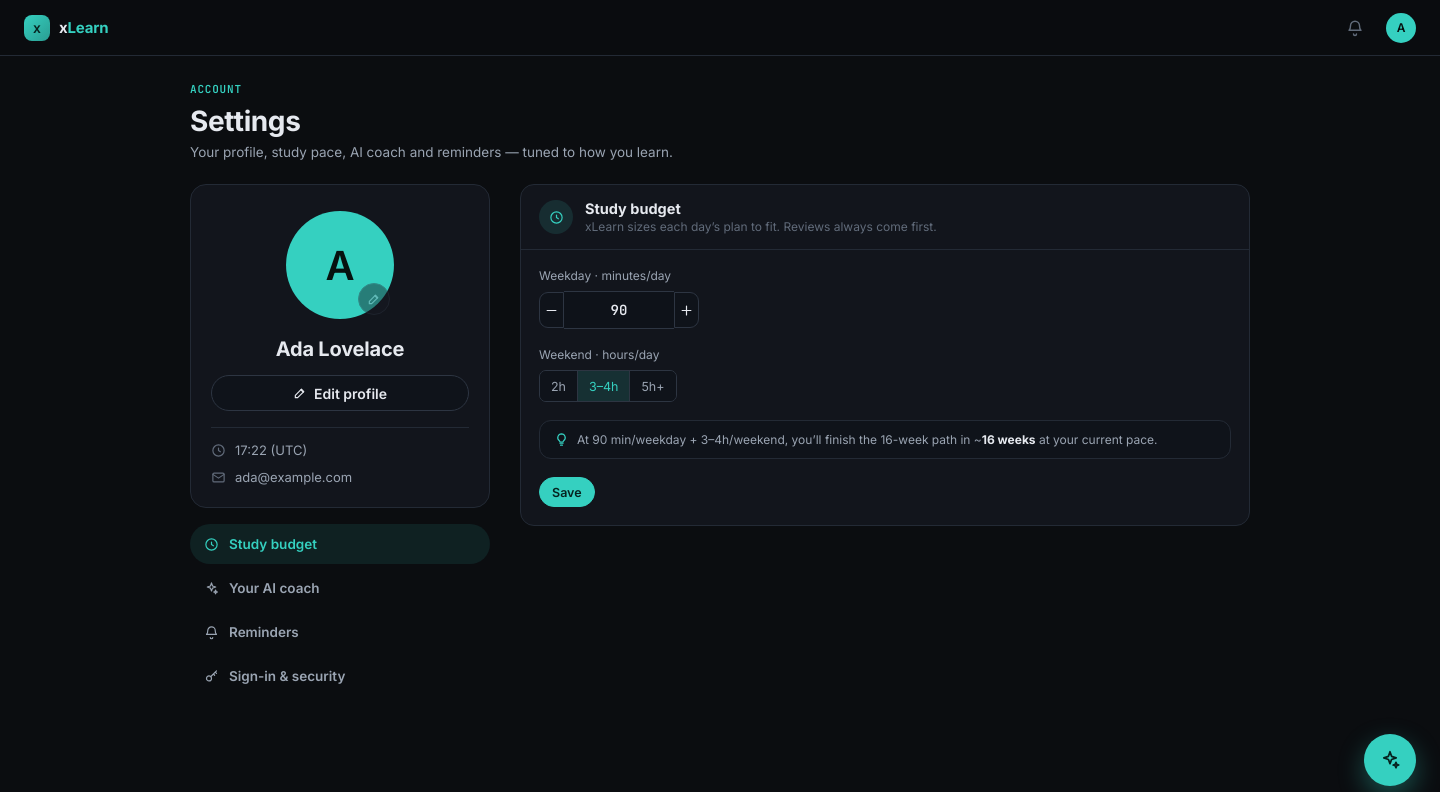
Settings screen › renders the profile card + section tabs, and switches the panel on tab click
Expected: the text "Ada Lovelace" is shown, [276,337,404,361]
Expected: the text "ada@example.com" is shown, [235,469,352,485]
# Switching tabs swaps the panel (this is what a scroll-spy rail couldn't do reliably).
Click the tab "Your AI coach". click: (274, 588)
box: [190,568,490,608]
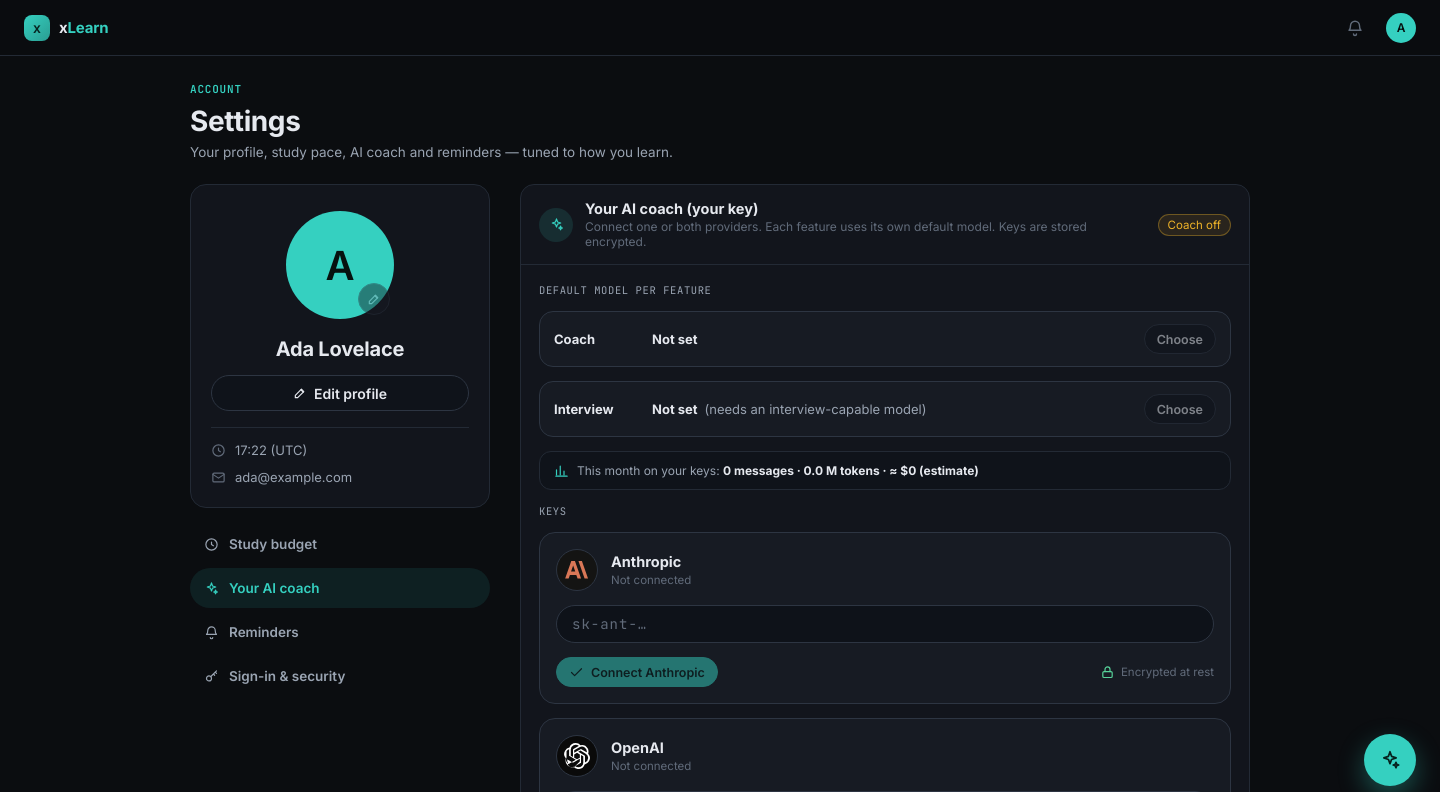
Expected: the heading "Your AI coach (your key)" is shown, [585,200,758,217]
Click the tab "Reminders". click: (264, 632)
box: [190,612,490,652]
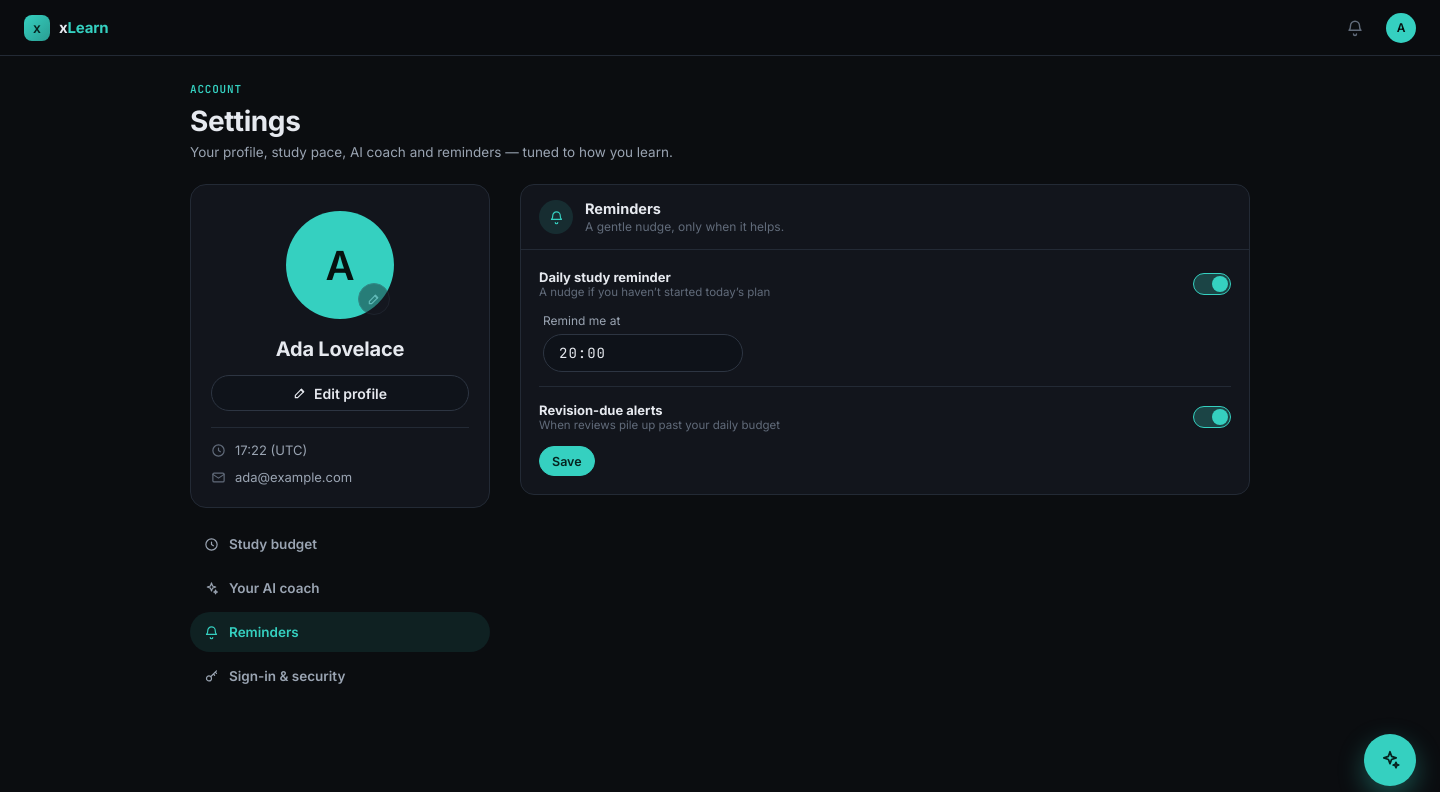
Expected: the heading "Reminders" is shown, [585,200,661,217]
